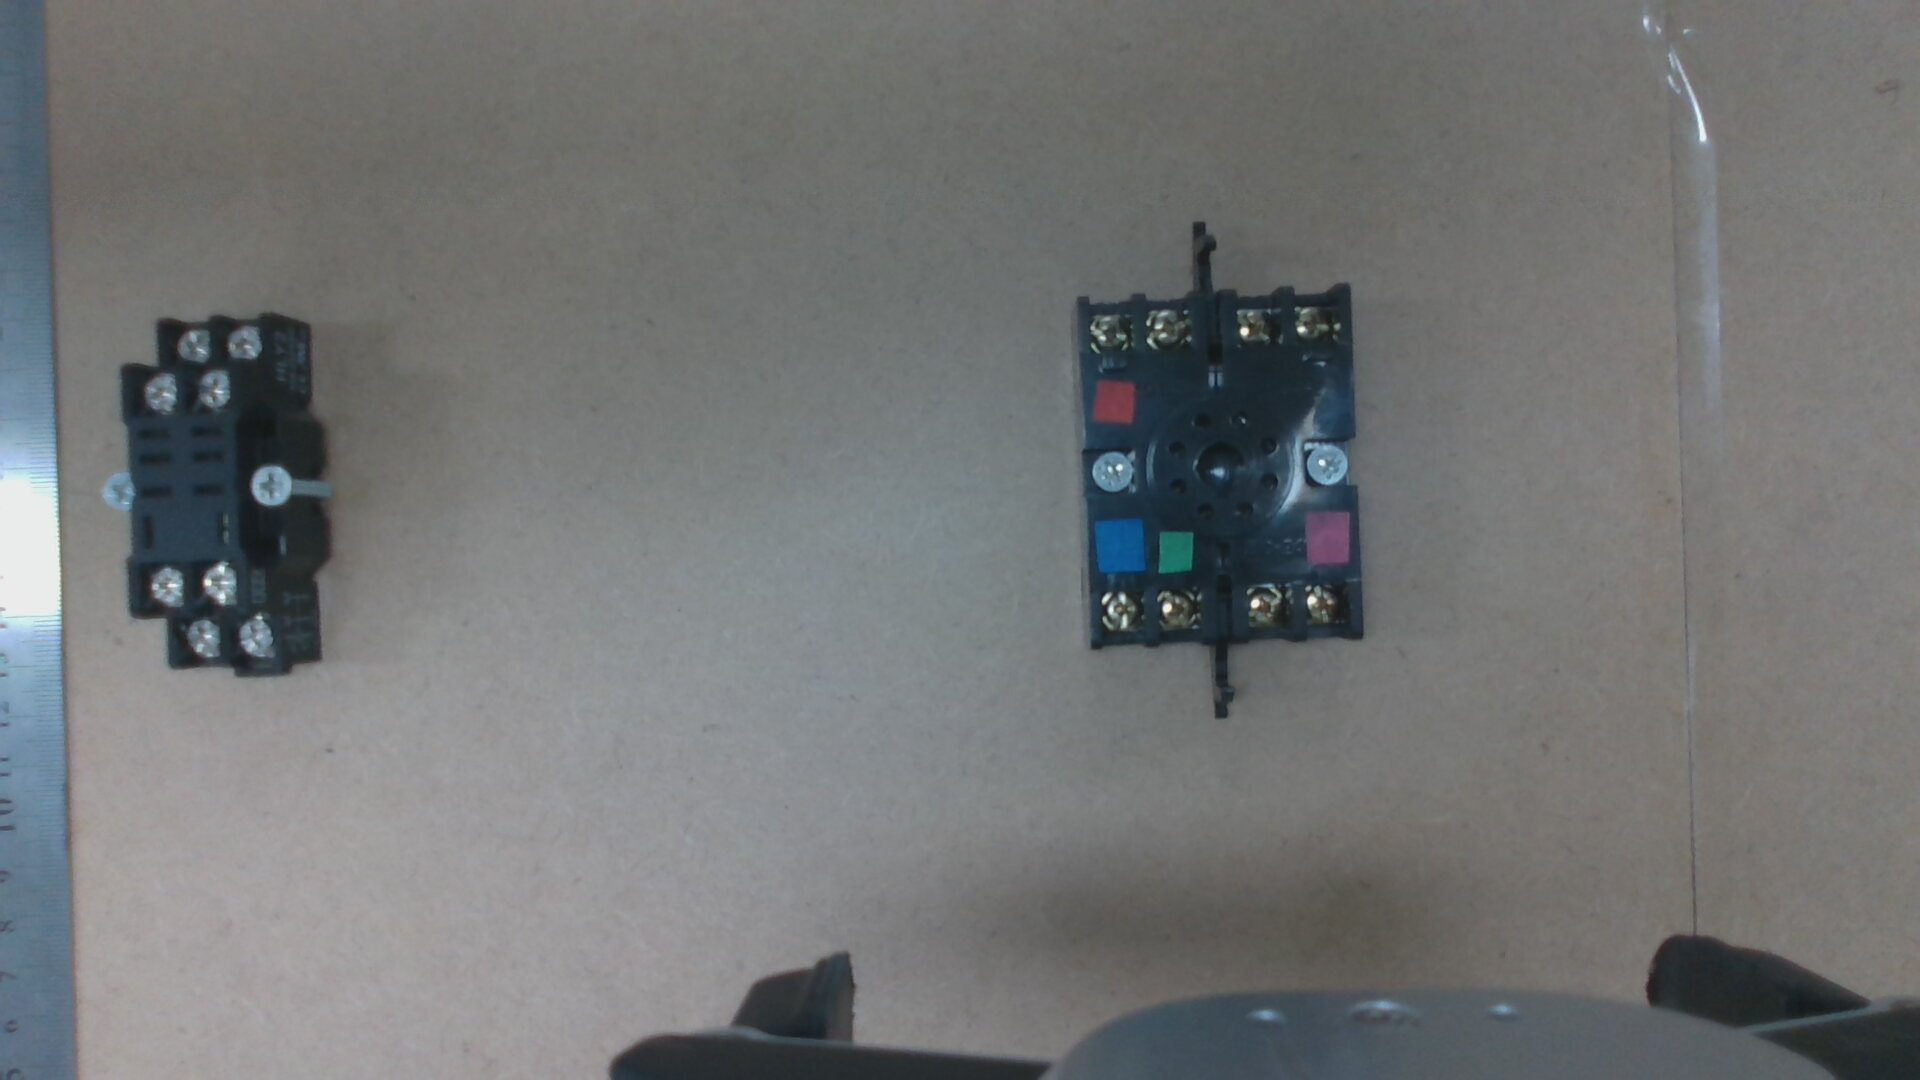timer 2: (1309, 589, 1341, 620)
timer 6: (1089, 314, 1131, 347)
timer 7: (1101, 593, 1143, 630)
timer 8: (1159, 589, 1200, 629)
